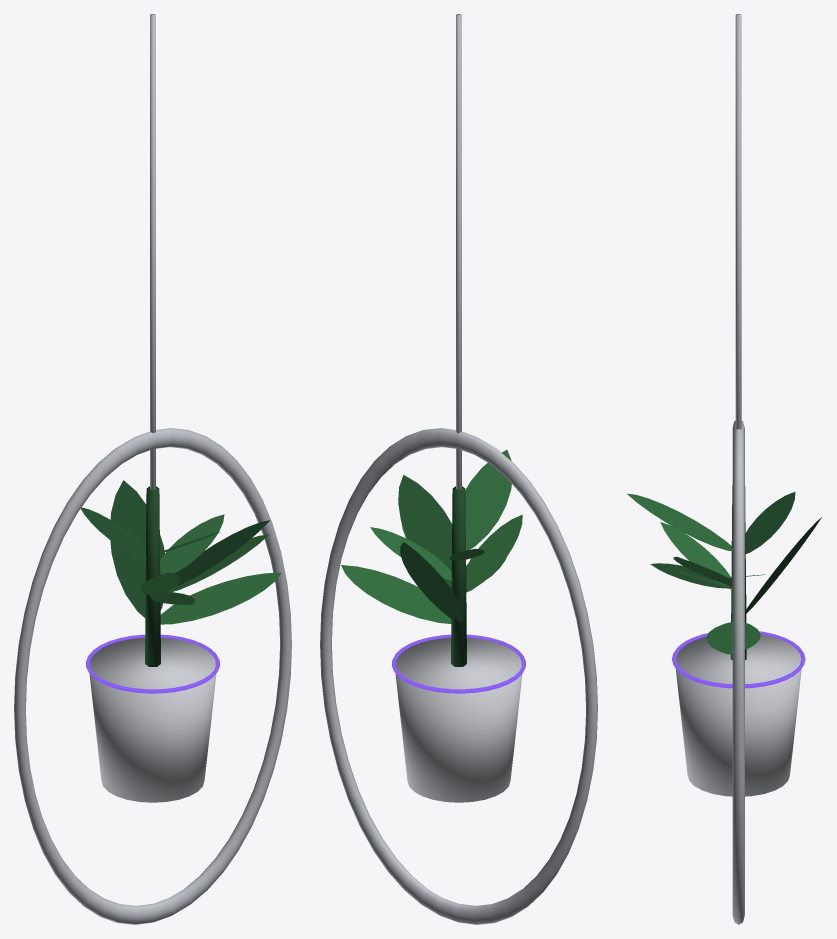
Rendered from Deco_HangingPlanter.gltf.
3 views of the same model, side by side, from view 1: azimuth 30°, elevation 25°; view 2: azimuth 150°, elevation 25°; view 3: azimuth 270°, elevation 25° (orthographic).
Parts seen in each view (by area): view 1: Deco_HangingPlanter; view 2: Deco_HangingPlanter; view 3: Deco_HangingPlanter.
Boxes of the visible parts, x1,y1,x2,y2 form: Deco_HangingPlanter: (14, 14, 291, 924); Deco_HangingPlanter: (320, 14, 597, 924); Deco_HangingPlanter: (627, 14, 821, 924).
Size of the model in its own units: 0.416 by 1.3 by 0.2574.
